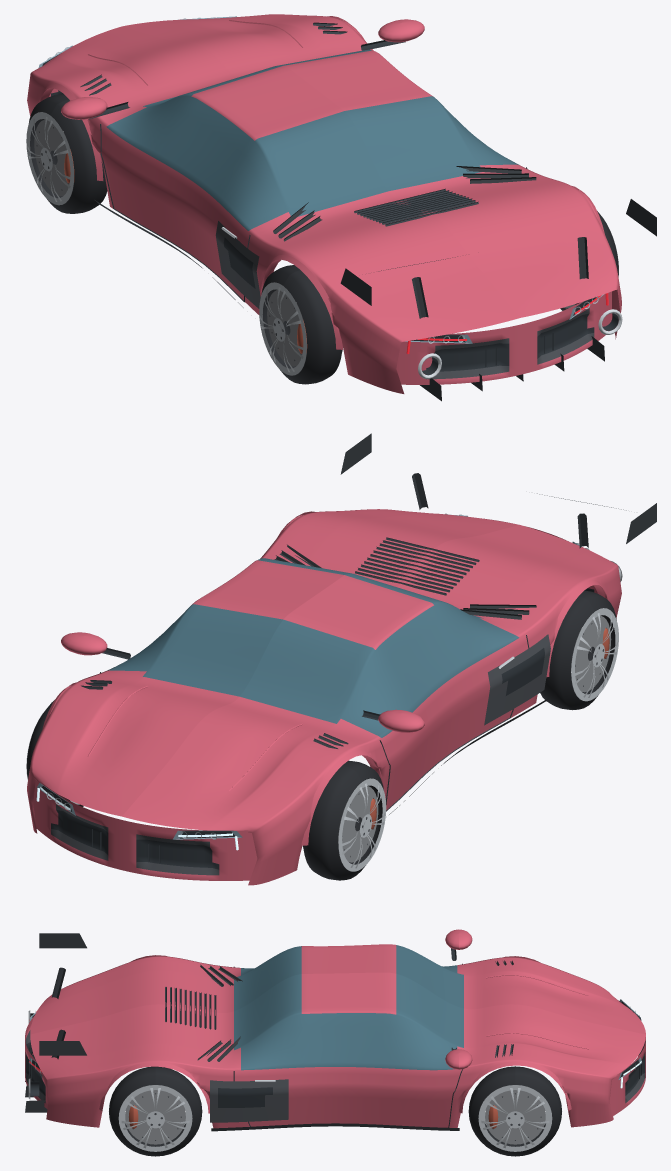
Rendered from inferno_r_medium.glb.
3 views of the same model, one above another, from view 1: azimuth 30°, elevation 25°; view 2: azimuth 150°, elevation 25°; view 3: azimuth 270°, elevation 25° (orthographic). The views are drawn at different scales.
Visible parts, largest first — view 1: Body, Wheel_2, Wheel_0; view 2: Body, Wheel_0, Wheel_2; view 3: Body, Wheel_1, Wheel_3.
Part boxes in pixels (x1,y1,x2,y2): Body: (27, 14, 656, 401); Wheel_2: (259, 265, 342, 384); Wheel_0: (26, 94, 107, 213); Body: (27, 433, 656, 885); Wheel_0: (302, 760, 386, 880); Wheel_2: (540, 590, 618, 710); Body: (25, 929, 645, 1131); Wheel_1: (468, 1066, 561, 1156); Wheel_3: (109, 1066, 202, 1156).
Size of the model in its own units: 2.48 by 1.1 by 4.95.
